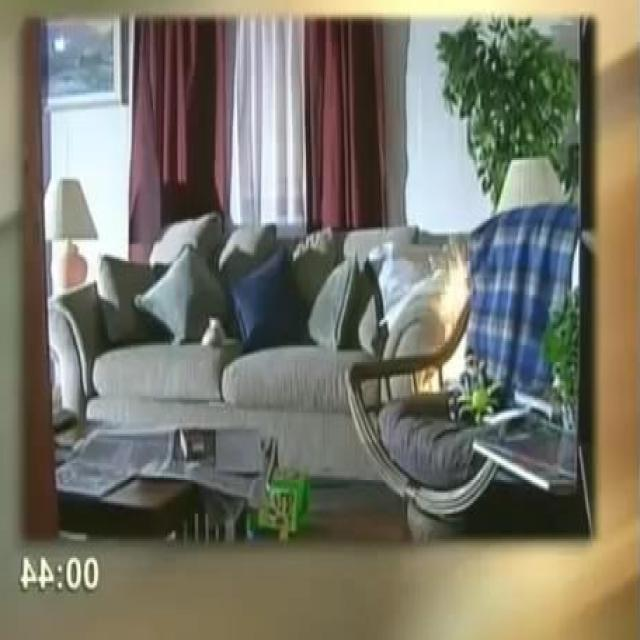smoke: (410, 248, 470, 398)
